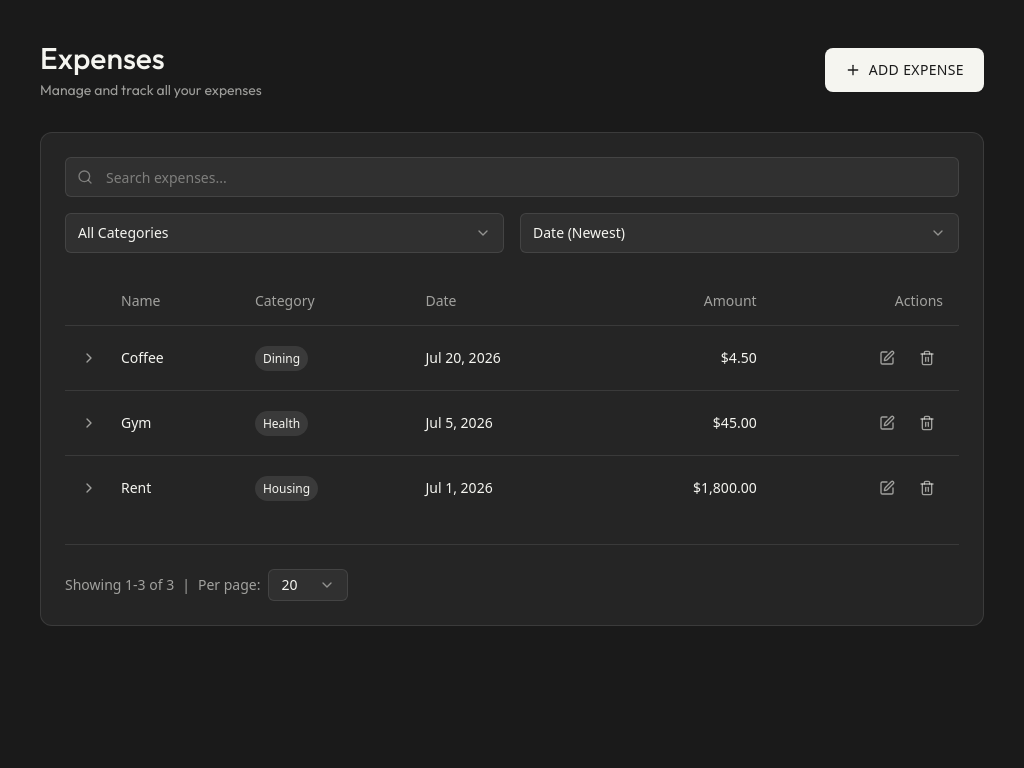
it: ExpensesPage - one delete confirmation, scoped to its row › deletes the row the dialog was opened from, and only that row
The width and height of the screenshot is (1024, 768).
Expected: the table is shown, [65,277,959,520]
Expected: the text "Rent" is shown, [121,478,151,496]
Click the button named "Delete Rent".
click(927, 488)  # box [911,472,943,504]
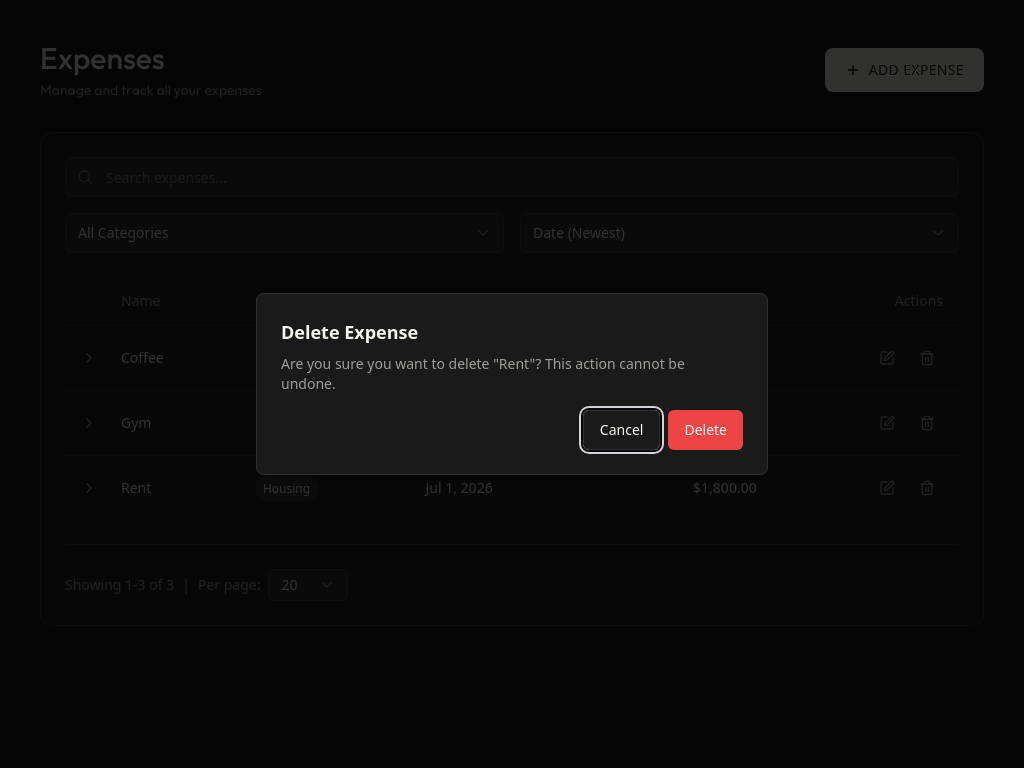
Now the number of dialogs is 1, box [256,293,768,475]
Click the button "Delete".
click(706, 430)  # box [668,410,743,450]
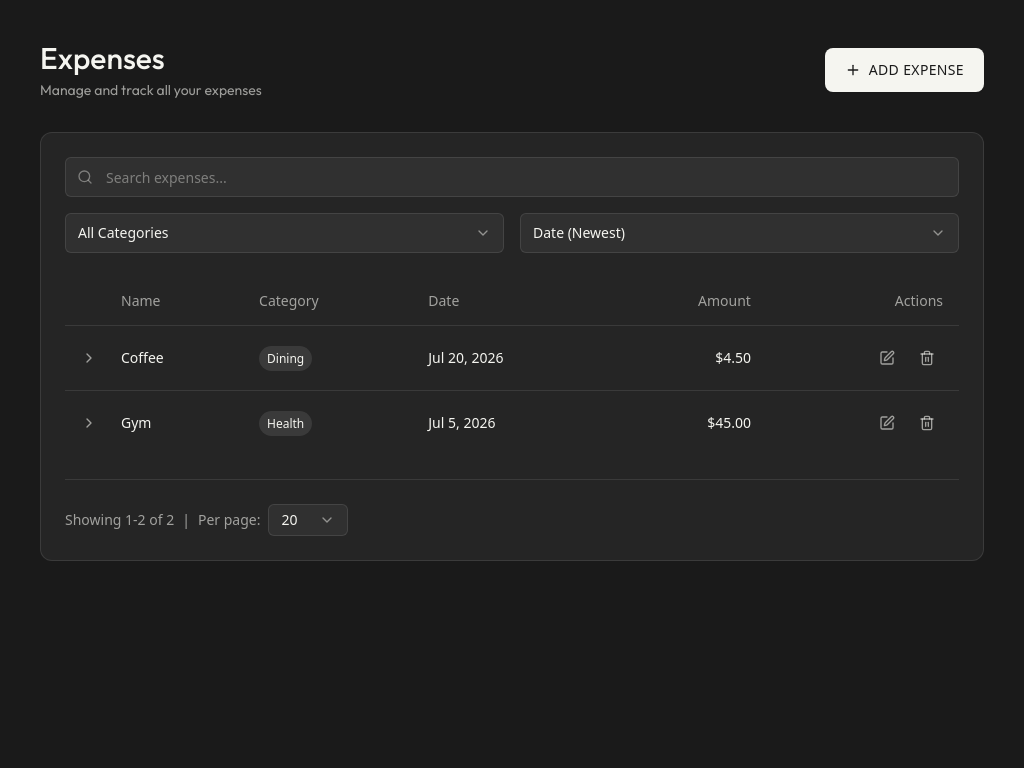
Expected: the text "Coffee" is shown, [121,348,164,366]
Now the text "Rent" is gone
